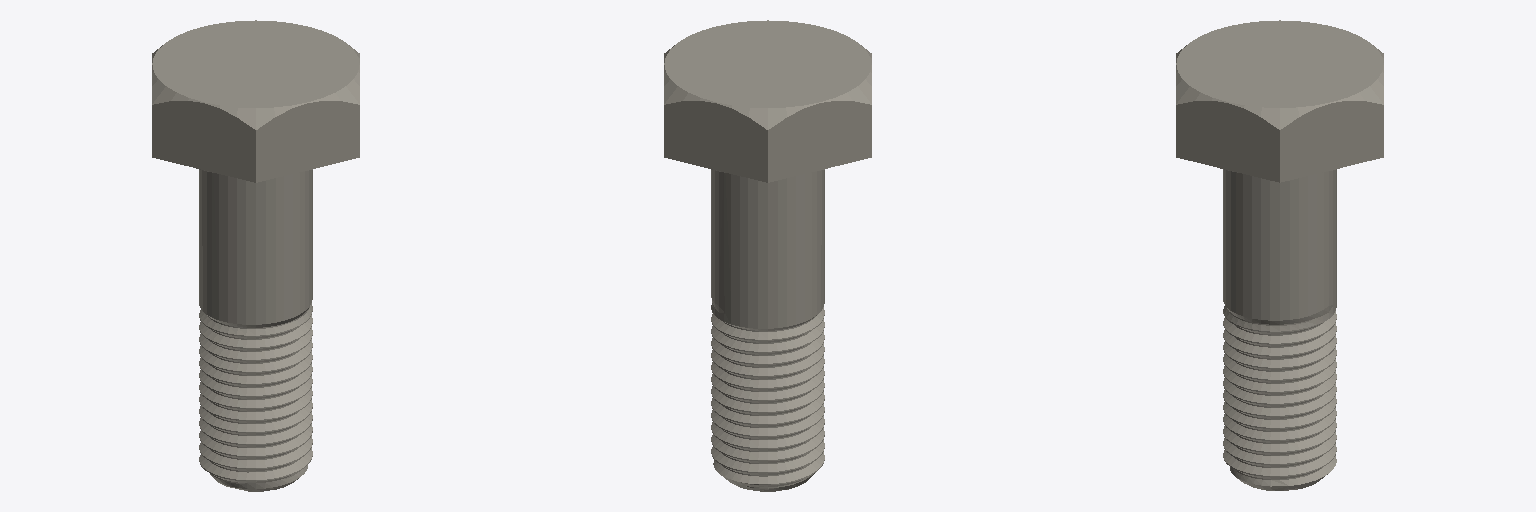
URDF robot description (bolt):
<?xml version="1.0" ?>
<robot name="bolt">
    <link name="baseLink">
        <contact>
            <lateral_friction value="0.3"/>
            <rolling_friction value="0.0"/>
            <contact_cfm value="0.0"/>
            <contact_erp value="1.0"/>
        </contact>

        <inertial>
            <origin rpy="0 0 0" xyz="0 0 0"/>
            <mass value="0.047"/>
            <!-- solid box : Izz=m*(x*x+y*y)/12; Ixx=m*(y*y+z*z)/12 Iyy=m*(x*x+z*z)/12 -->
            <inertia ixx="0.0000783" ixy="0" ixz="0"
                     iyy="0.0000783" iyz="0"
                     izz="0.0000783"/>
        </inertial>
        <visual>
            <origin rpy="0 0 0" xyz="0 0 0"/>
            <geometry>
<!--                <mesh filename="bolt_H2S1L5.stl" scale="0.012 0.012 0.002"/>-->
                <mesh filename="bolt_centered.stl" scale="0.003 0.003 0.003"/>
            </geometry>
            <material name="iron">
                <color rgba="0.6314 0.6157 0.5804 1"/>
            </material>
        </visual>
        <collision>
            <origin rpy="0 0 0" xyz="0 0 0"/>
            <geometry>
<!--                <mesh filename="bolt_H2S1L5.stl" scale="0.12 0.12 0.20"/>-->
                <mesh filename="bolt_centered.stl" scale="0.0035 0.0035 0.0035"/>
            </geometry>
        </collision>
    </link>
</robot>

--- What the picture shows (computed from the rendered views, not written in the file) ---
Views: 3 orthographic renders of the robot side by side, from view 1: azimuth 30°, elevation 25°; view 2: azimuth 150°, elevation 25°; view 3: azimuth 270°, elevation 25°.
Model bolt with 1 links and 0 joints (none), rooted at baseLink, posed every joint at zero.
Visible links, largest first — view 1: baseLink; view 2: baseLink; view 3: baseLink.
Boxes of the visible links, bbox=[...] form: baseLink: bbox=[152, 20, 359, 491]; baseLink: bbox=[664, 20, 871, 491]; baseLink: bbox=[1176, 20, 1383, 490].
Size in the robot's own frame: 0.0239 by 0.0207 by 0.0447 metres.
Meshes: 1 distinct files referenced, 1 mesh visuals loaded (1 binary STL).